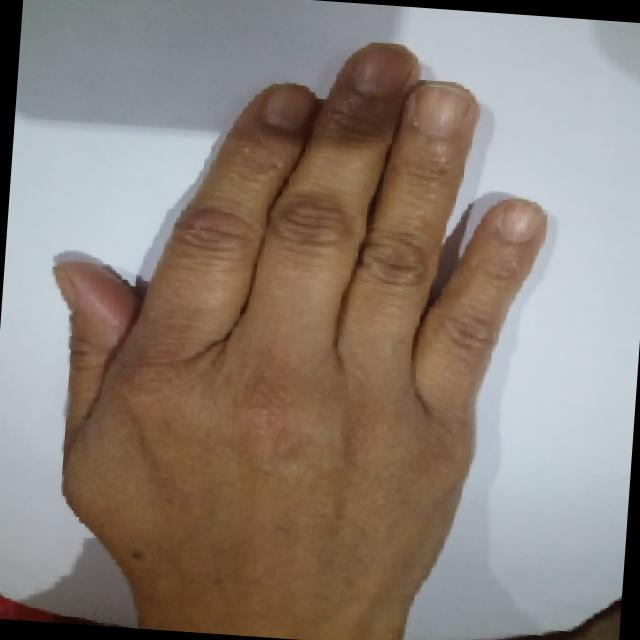Nail: (348, 43, 410, 93), (412, 84, 467, 137), (261, 83, 313, 130), (495, 201, 545, 244), (49, 263, 78, 310)
